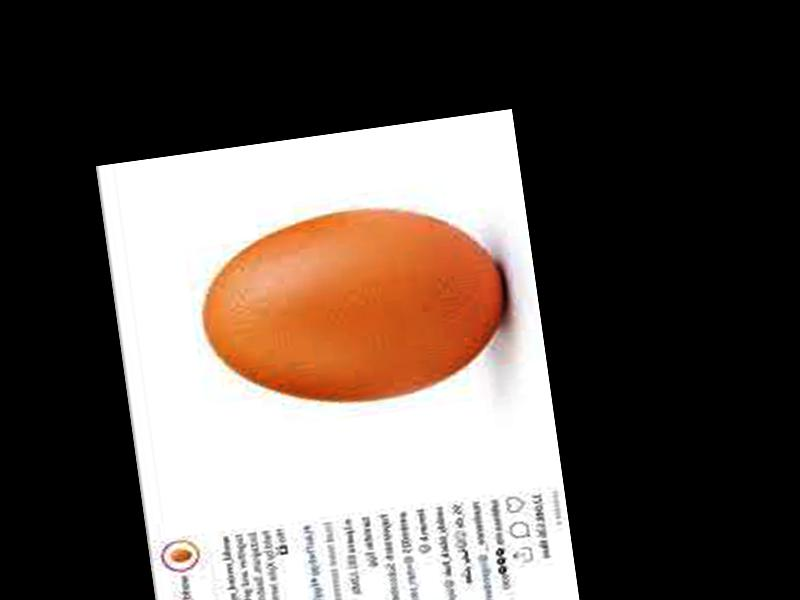Eggs: (191, 190, 513, 420)
